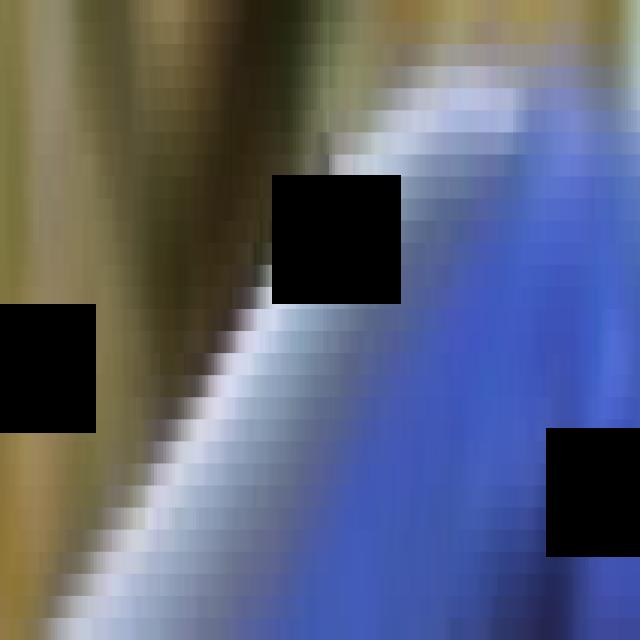fish: (3, 22, 640, 640)
